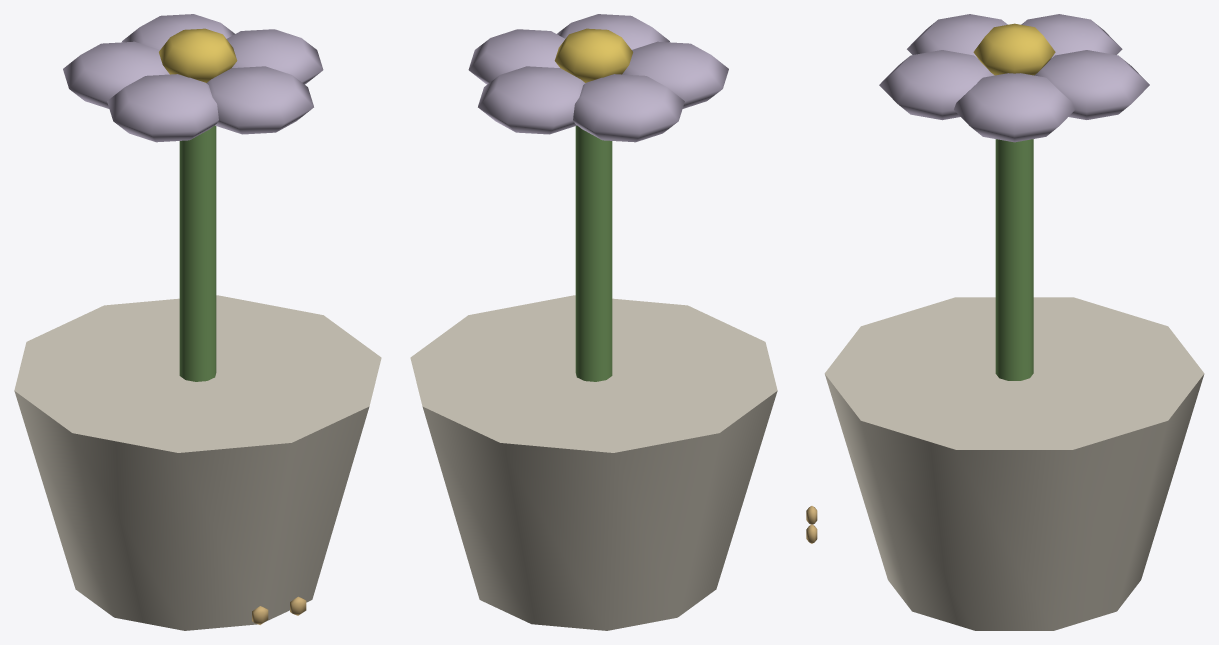
3 views of the same model, side by side, from view 1: azimuth 30°, elevation 25°; view 2: azimuth 150°, elevation 25°; view 3: azimuth 270°, elevation 25° (orthographic).
Visible parts, largest first — view 1: g_s67; view 2: g_s67; view 3: g_s67.
Part boxes in pixels (x1=…): g_s67: x1=14, y1=14, x2=381, y2=630; g_s67: x1=410, y1=14, x2=777, y2=630; g_s67: x1=806, y1=14, x2=1204, y2=630.
Size of the model in its own units: 0.2853 by 0.48 by 0.3143.
